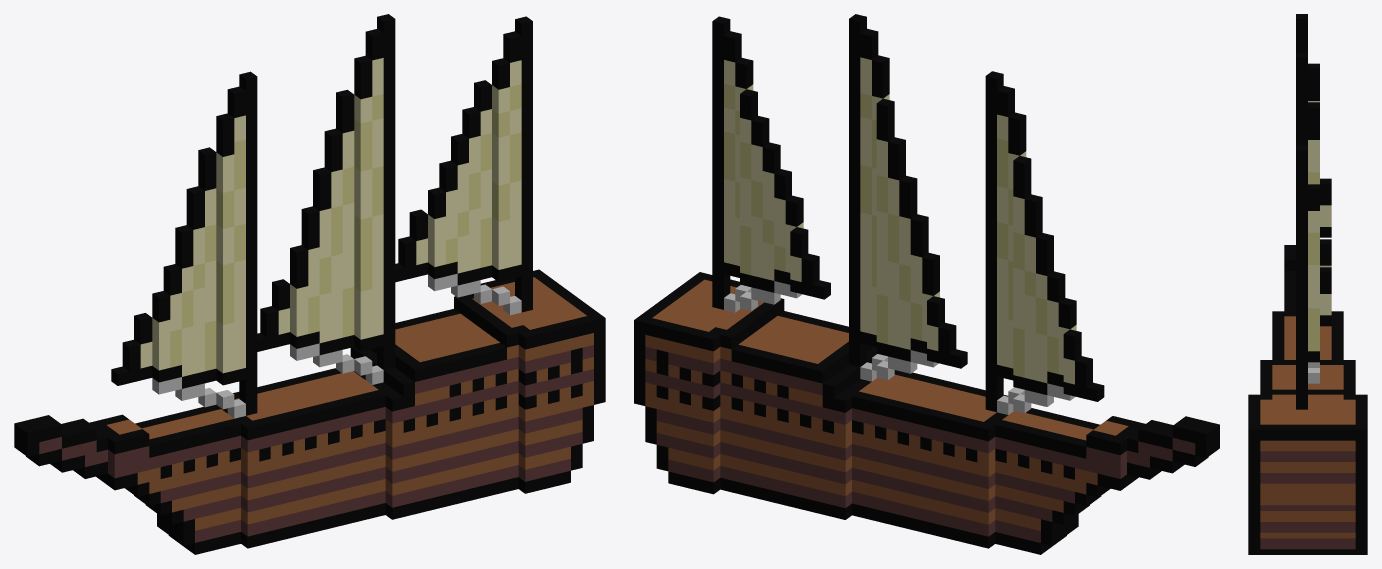
File: Ship.obj
The picture shows the model from 3 angles, left to right: view 1: azimuth 30°, elevation 25°; view 2: azimuth 150°, elevation 25°; view 3: azimuth 270°, elevation 25°; orthographic projection. The views are drawn at different scales.
Size of the model in its own units: 4.8 by 4 by 1.
1 material, 1 textured.
